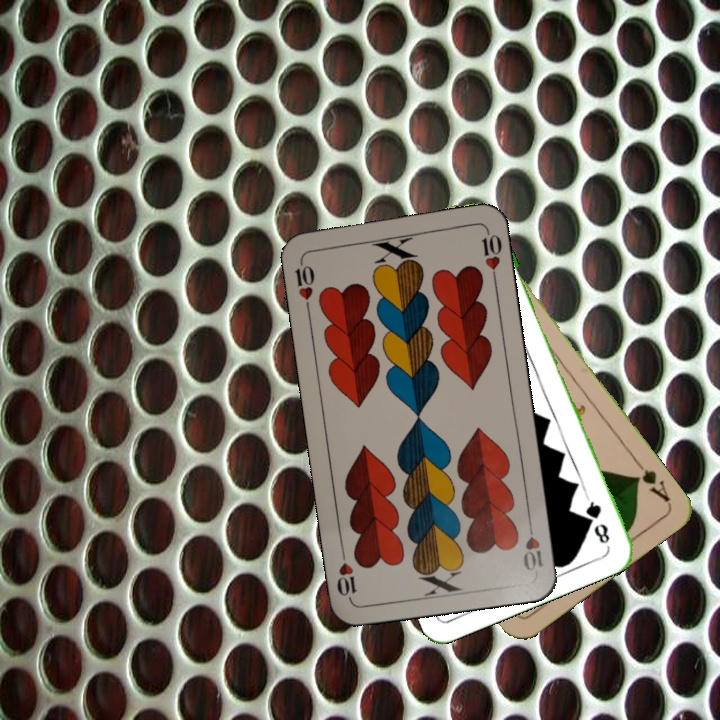G8: (582, 492, 612, 547)
GA: (630, 456, 673, 505)
H10: (290, 255, 317, 314), (519, 516, 546, 574)
